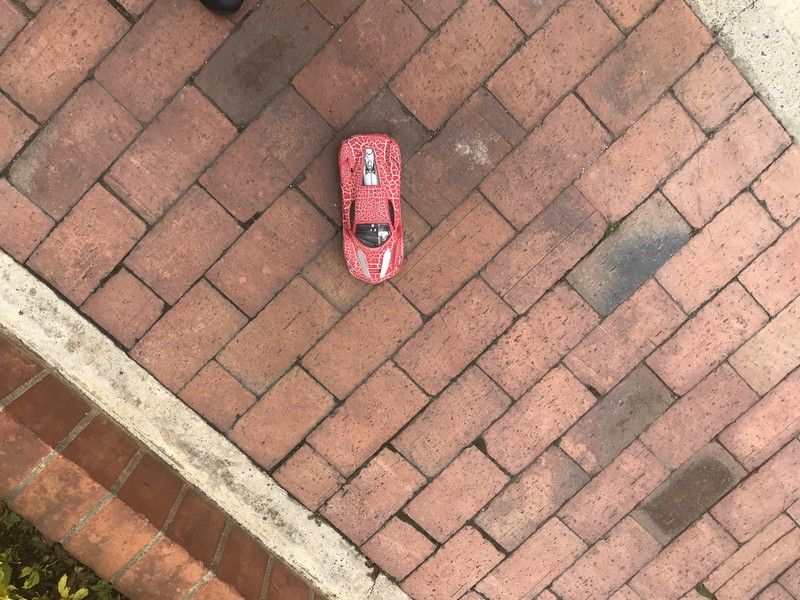RC: (336, 131, 408, 287)
